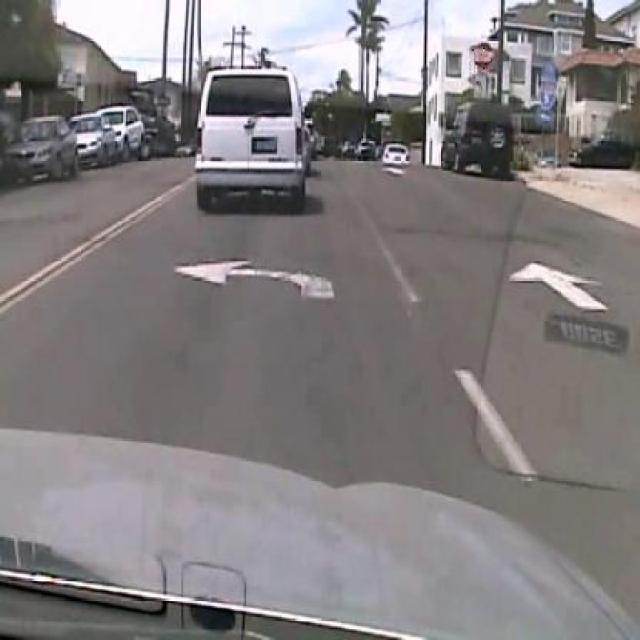stop: (472, 40, 494, 71)
